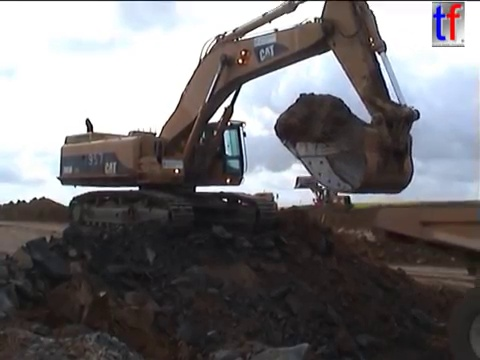excavator: (53, 1, 423, 244)
truck: (369, 201, 480, 360)
wheel loader: (291, 173, 357, 216)
